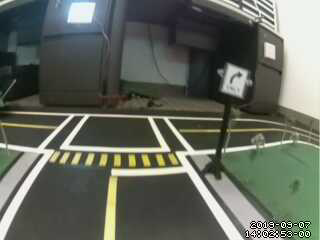Right_only_sign: (219, 58, 254, 107)
